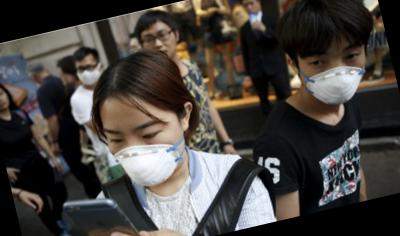with_mask: (103, 108, 195, 195), (297, 39, 375, 111), (74, 59, 105, 89)
without_mask: (140, 24, 181, 64)
